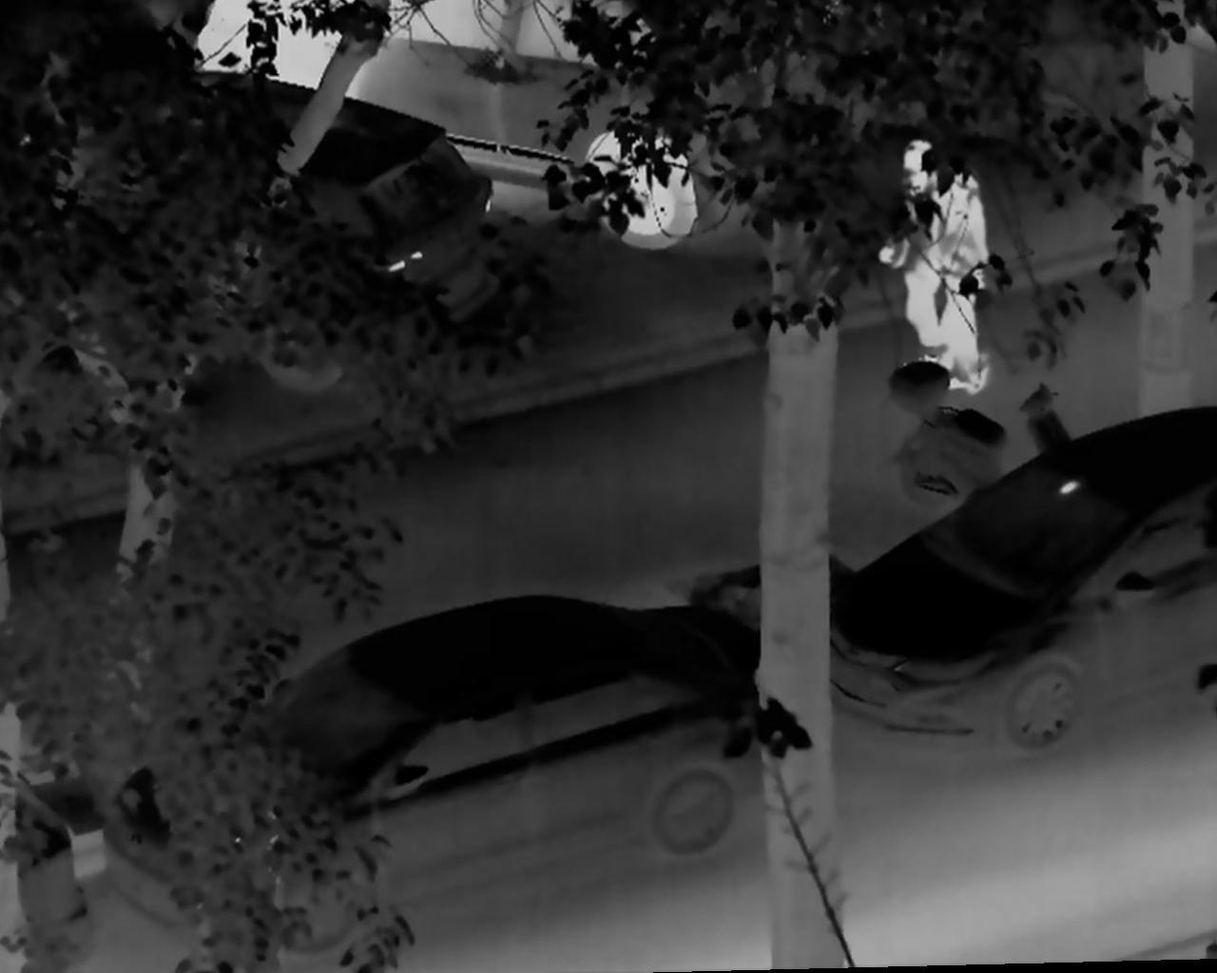person: (876, 136, 969, 383), (931, 176, 998, 396)
